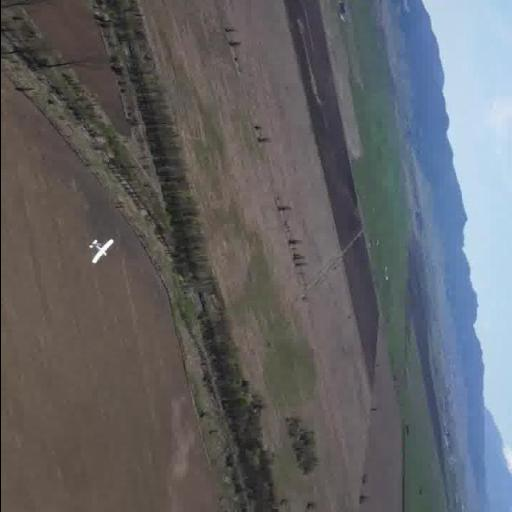uav: (80, 236, 120, 264)
